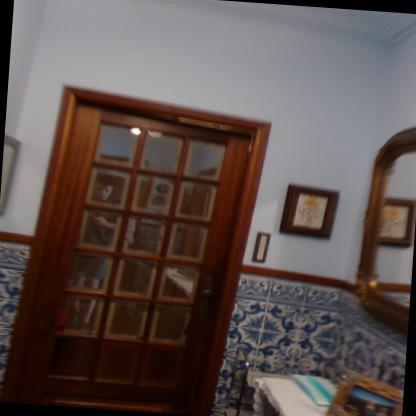closed: (5, 68, 283, 415)
